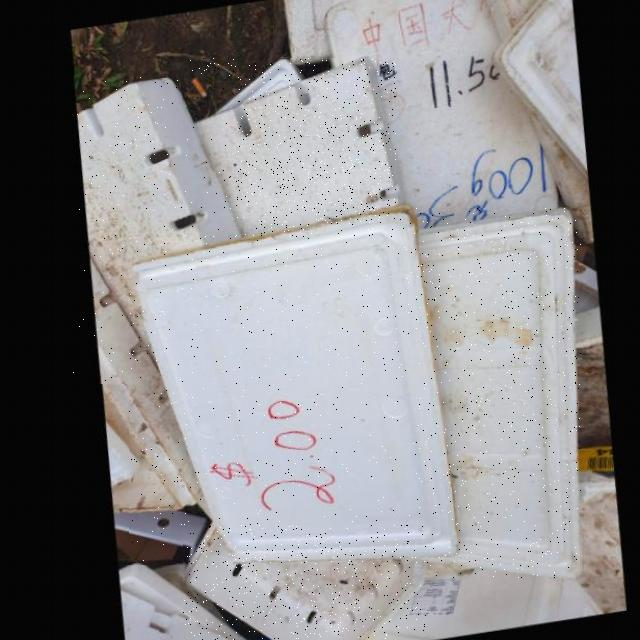styrofoam: (130, 211, 458, 564), (415, 208, 581, 578), (72, 75, 236, 383), (190, 58, 396, 237), (183, 525, 426, 640)
